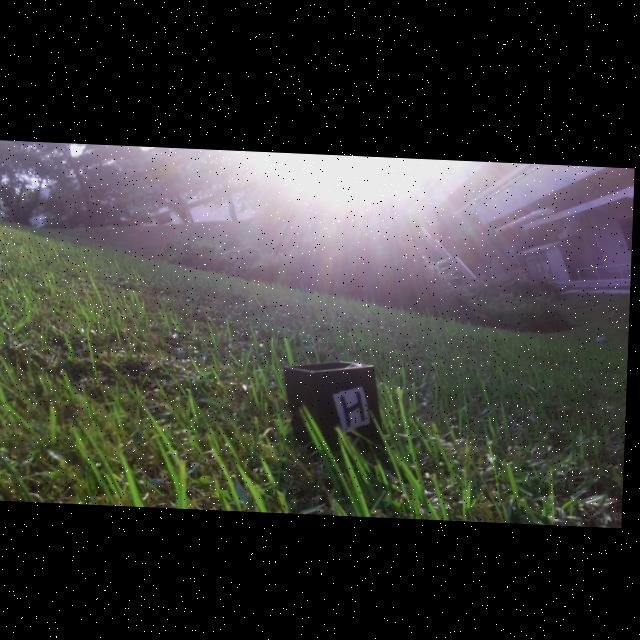H: (343, 388, 368, 425)
